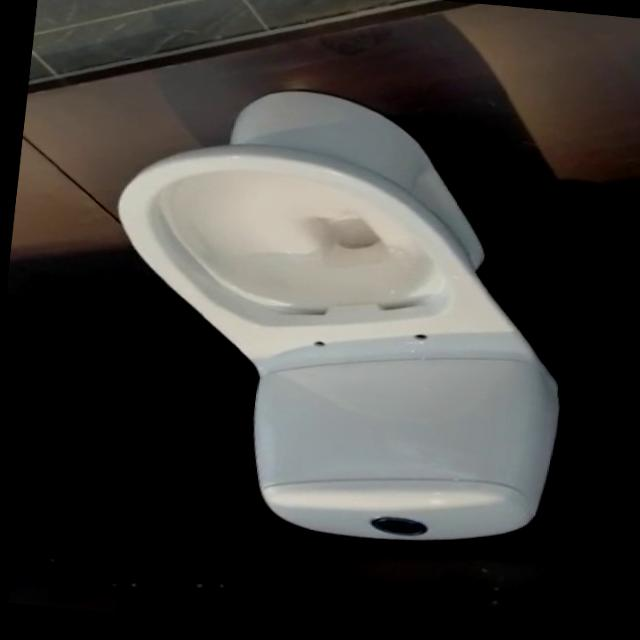toilet: (75, 64, 595, 570)
